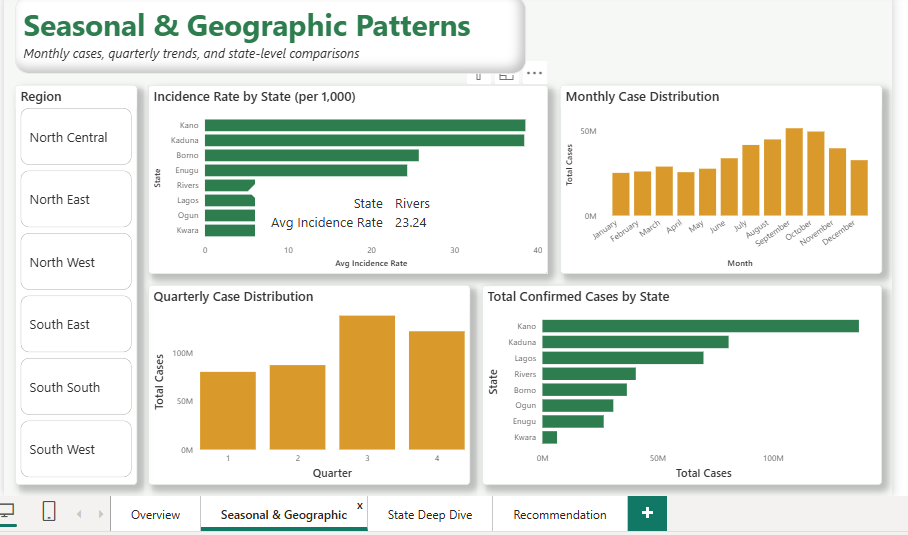

What the dashboard file says about the page in this screenshot:
{"tool":"powerbi","page":{"name":"Seasonal & Geographic","canvas":[1280,720],"ordinal":1},"visuals":[{"type":"clusteredColumnChart","title":"\tMonthly Case Distribution","fields":{"Y":["malaria_project malaria_data.Total Cases"],"Category":["malaria_project malaria_data.Month"]},"box":[800,128,464,272],"z":0},{"type":"clusteredBarChart","title":"Total Confirmed Cases by State","fields":{"Category":["malaria_project malaria_data.State"],"Y":["malaria_project malaria_data.Total Cases"]},"box":[688,416,576,288],"z":1000},{"type":"clusteredBarChart","title":"\tIncidence Rate by State (per 1,000)","fields":{"Category":["malaria_project malaria_data.State"],"Y":["malaria_project malaria_data.Avg Incidence Rate"]},"box":[208,128,576,272],"z":2000},{"type":"columnChart","title":"Quarterly Case Distribution","fields":{"Category":["malaria_project malaria_data.Quarter"],"Y":["malaria_project malaria_data.Total Cases"]},"box":[208,416,464,288],"z":3000},{"type":"advancedSlicerVisual","fields":{"Values":["malaria_project malaria_data.Region"]},"box":[16,128,176,576],"z":4000},{"type":"textbox","box":[16,0,736,112],"z":5000}]}

Visuals, with their boxes on the page's 1280x720 design canvas (x1, y1, x2, y2). These are canvas units, not pixel positions in the 908x535 screenshot, which may show the page scaled, cropped or inside an application window:
"	Monthly Case Distribution" clusteredColumnChart: [left=800, top=128, right=1264, bottom=400]
"Total Confirmed Cases by State" clusteredBarChart: [left=688, top=416, right=1264, bottom=704]
"	Incidence Rate by State (per 1,000)" clusteredBarChart: [left=208, top=128, right=784, bottom=400]
"Quarterly Case Distribution" columnChart: [left=208, top=416, right=672, bottom=704]
advancedSlicerVisual - malaria_project malaria_data.Region: [left=16, top=128, right=192, bottom=704]
textbox: [left=16, top=0, right=752, bottom=112]
